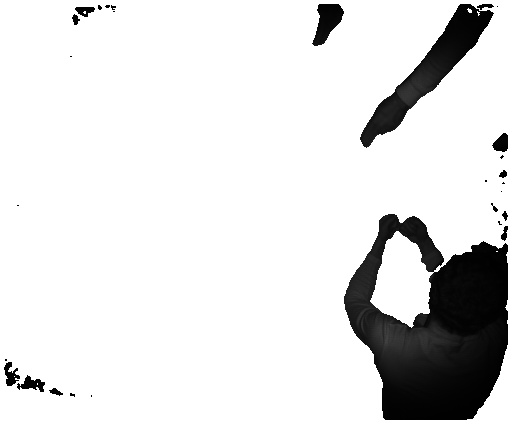fist: (368, 208, 401, 244), (400, 216, 432, 245)
hand: (360, 102, 410, 151)
